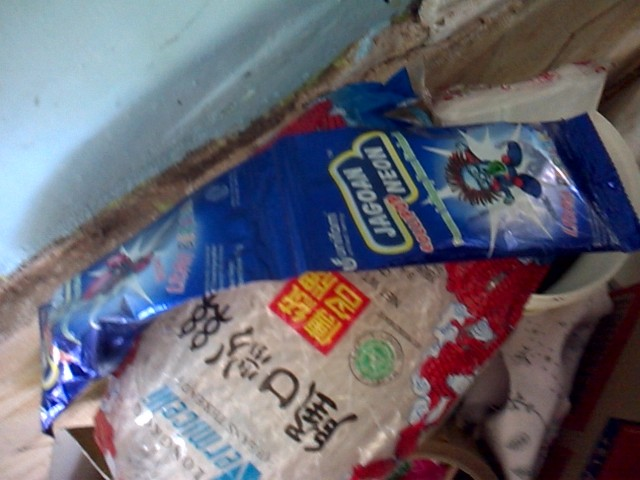jagoan neon: (262, 111, 640, 277)
